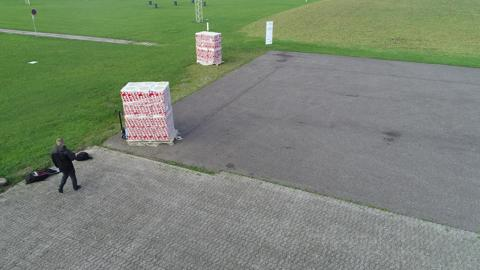RockwoolPallet: (119, 84, 175, 145)
